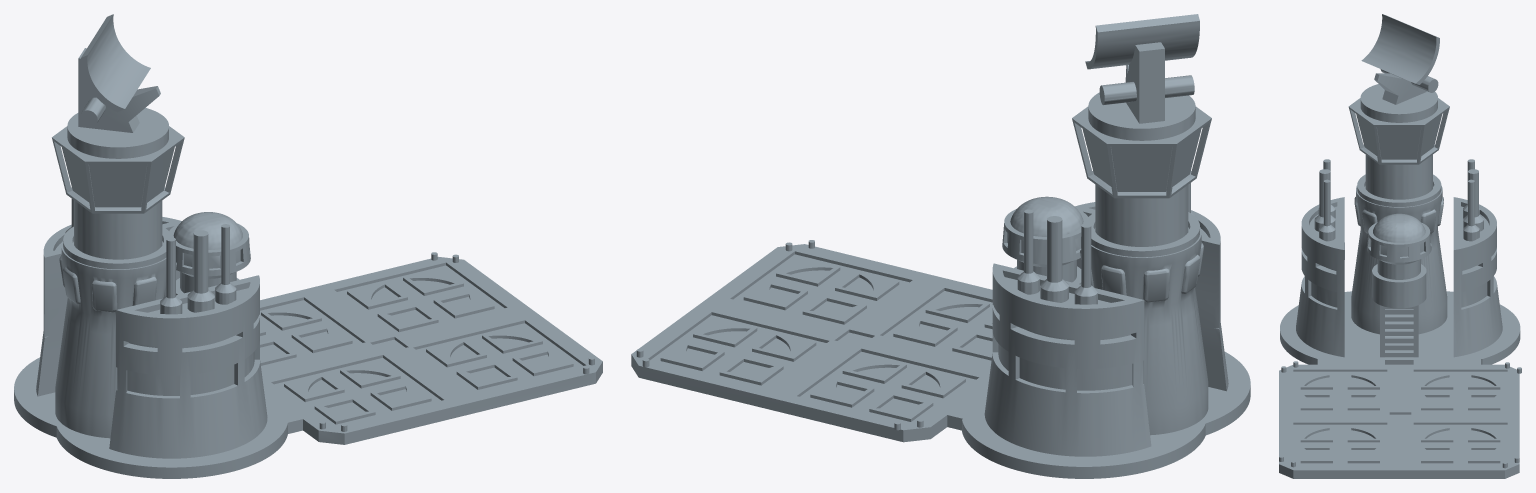
File: allied-airforce-command.glb
The picture shows the model from 3 angles, left to right: view 1: azimuth 30°, elevation 25°; view 2: azimuth 150°, elevation 25°; view 3: azimuth 270°, elevation 25°; orthographic projection. The views are drawn at different scales.
Visible parts, largest first — view 1: allied-airforce-command-air-operations-complex, allied-airforce-command-four-bay-flight-deck, allied-airforce-command-radar-antenna-head; view 2: allied-airforce-command-air-operations-complex, allied-airforce-command-four-bay-flight-deck, allied-airforce-command-radar-antenna-head; view 3: allied-airforce-command-air-operations-complex, allied-airforce-command-four-bay-flight-deck, allied-airforce-command-radar-antenna-head.
Part boxes in pixels (left/top/right/bottom): allied-airforce-command-air-operations-complex: left=36, top=126, right=267, bottom=458; allied-airforce-command-four-bay-flight-deck: left=14, top=252, right=602, bottom=478; allied-airforce-command-radar-antenna-head: left=67, top=14, right=168, bottom=158; allied-airforce-command-air-operations-complex: left=984, top=106, right=1228, bottom=456; allied-airforce-command-four-bay-flight-deck: left=631, top=240, right=1250, bottom=478; allied-airforce-command-radar-antenna-head: left=1085, top=14, right=1199, bottom=140; allied-airforce-command-air-operations-complex: left=1296, top=98, right=1502, bottom=364; allied-airforce-command-four-bay-flight-deck: left=1279, top=291, right=1521, bottom=478; allied-airforce-command-radar-antenna-head: left=1360, top=14, right=1439, bottom=122.
Bounding box in the file's own units: 1 × 0.7655 × 0.5715.
